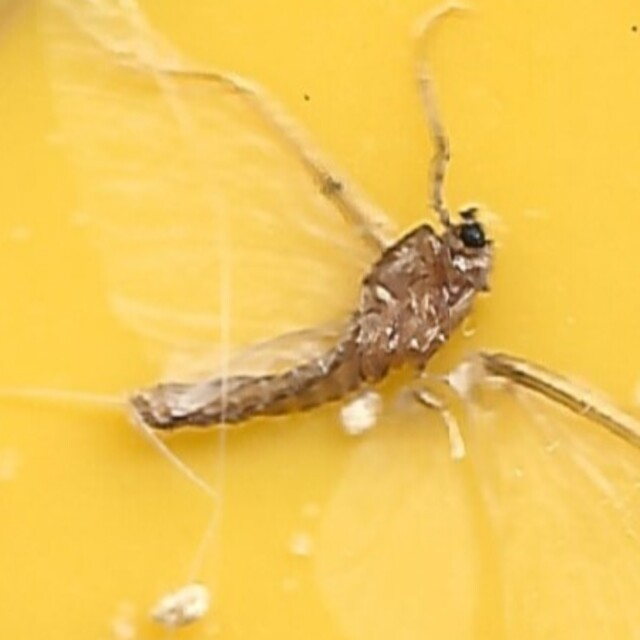Ephemeroptera: (142, 189, 498, 451)
